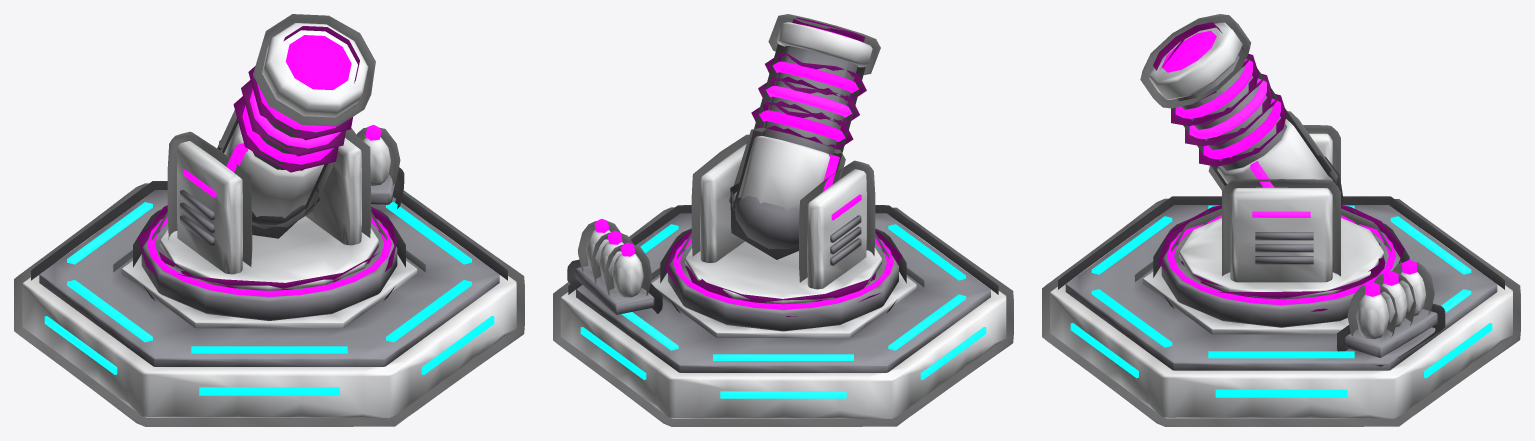
The model's file is plasma_mortar.glb.
The picture shows the model from 3 angles, left to right: view 1: azimuth 30°, elevation 25°; view 2: azimuth 150°, elevation 25°; view 3: azimuth 270°, elevation 25°; orthographic projection. The views are drawn at different scales.
Parts seen in each view (by area): view 1: M_PlasmaMortar, M_Yaw, M_Tube, M_PlasmaMortar_Outline, M_Tube_Outline, M_Yaw_Outline, M_Rack, M_Rack_Outline; view 2: M_PlasmaMortar, M_Yaw, M_Tube, M_PlasmaMortar_Outline, M_Tube_Outline, M_Yaw_Outline, M_Rack, M_Rack_Outline; view 3: M_PlasmaMortar, M_Yaw, M_Tube, M_PlasmaMortar_Outline, M_Yaw_Outline, M_Tube_Outline, M_Rack, M_Rack_Outline.
Part boxes in pixels (x1,y1,x2,y2): M_PlasmaMortar: [22, 190, 516, 418]; M_Yaw: [141, 138, 397, 320]; M_Tube: [224, 23, 368, 228]; M_PlasmaMortar_Outline: [14, 181, 524, 426]; M_Tube_Outline: [217, 14, 375, 238]; M_Yaw_Outline: [133, 130, 405, 301]; M_Rack: [363, 125, 395, 204]; M_Rack_Outline: [349, 127, 404, 208]; M_PlasmaMortar: [560, 213, 1006, 418]; M_Yaw: [668, 144, 898, 331]; M_Tube: [735, 22, 872, 248]; M_PlasmaMortar_Outline: [553, 205, 1013, 426]; M_Tube_Outline: [729, 14, 880, 259]; M_Yaw_Outline: [660, 134, 906, 316]; M_Rack: [575, 219, 654, 314]; M_Rack_Outline: [567, 221, 662, 323]; M_PlasmaMortar: [1050, 205, 1512, 418]; M_Yaw: [1161, 133, 1401, 327]; M_Tube: [1149, 22, 1332, 187]; M_PlasmaMortar_Outline: [1042, 196, 1520, 426]; M_Yaw_Outline: [1153, 125, 1409, 311]; M_Tube_Outline: [1140, 14, 1343, 206]; M_Rack: [1345, 259, 1437, 357]; M_Rack_Outline: [1337, 262, 1445, 366].
Bounding box in the file's own units: 2.89 × 2.41 × 3.27.
